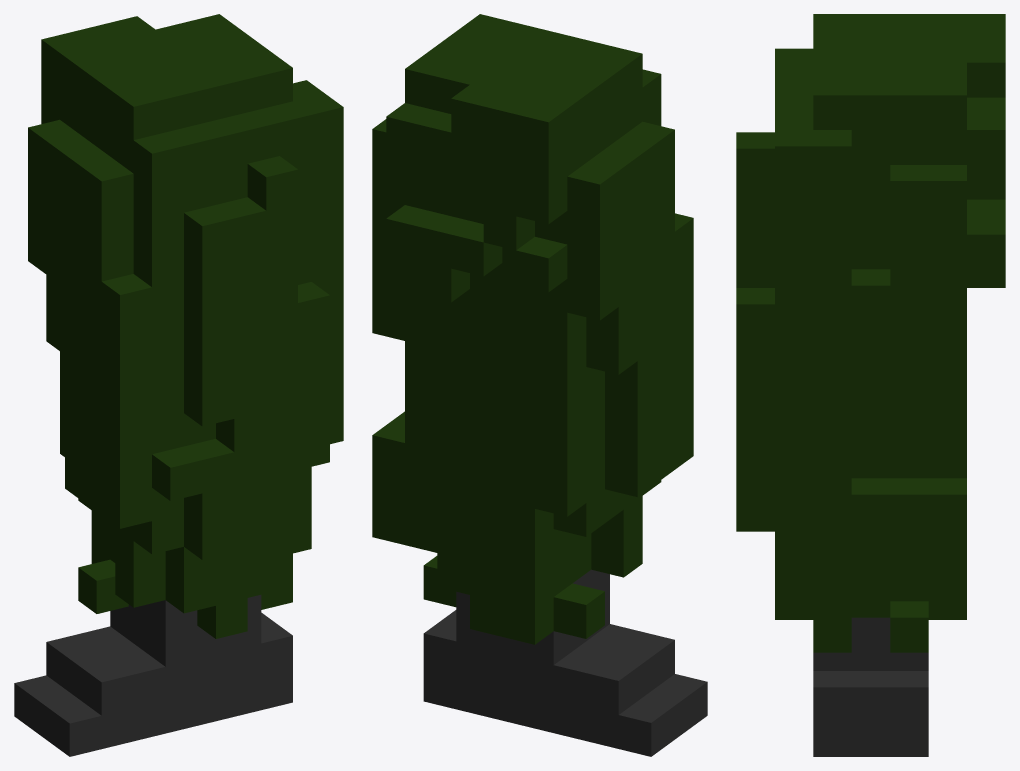
The model's file is rambo_monkey_left_leg.obj.
3 views of the same model, side by side, from view 1: azimuth 30°, elevation 25°; view 2: azimuth 150°, elevation 25°; view 3: azimuth 270°, elevation 25° (orthographic). The views are drawn at different scales.
Size of the model in its own units: 8 by 19 by 7.
Materials: 1 (1 with a texture image).
